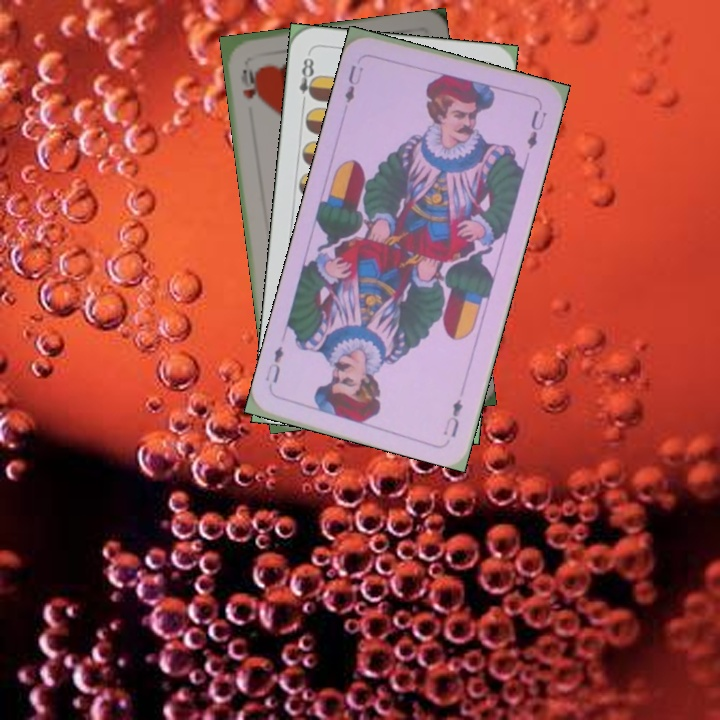E8: (295, 53, 320, 109)
EU: (439, 394, 466, 440), (340, 61, 366, 105)
HO: (236, 61, 258, 101)
